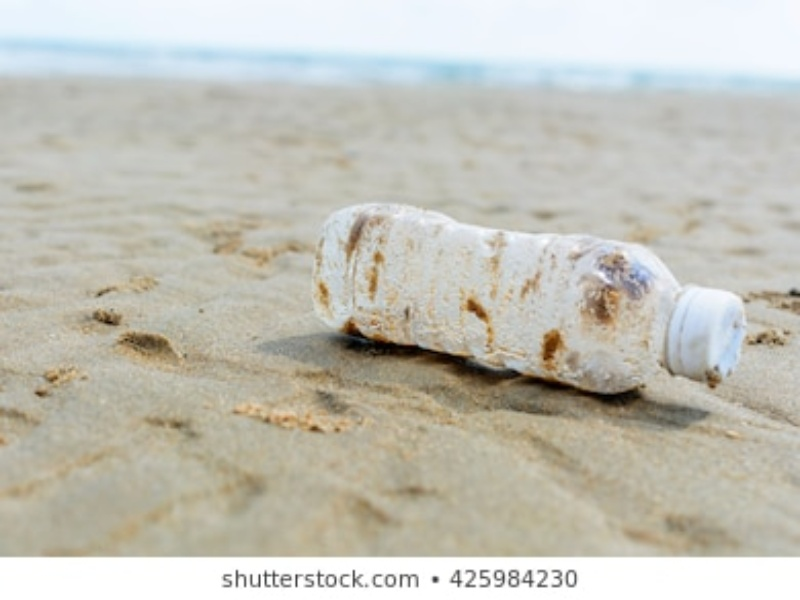bottle-cap: (663, 283, 746, 388)
plastic-bottle: (309, 197, 747, 394)
